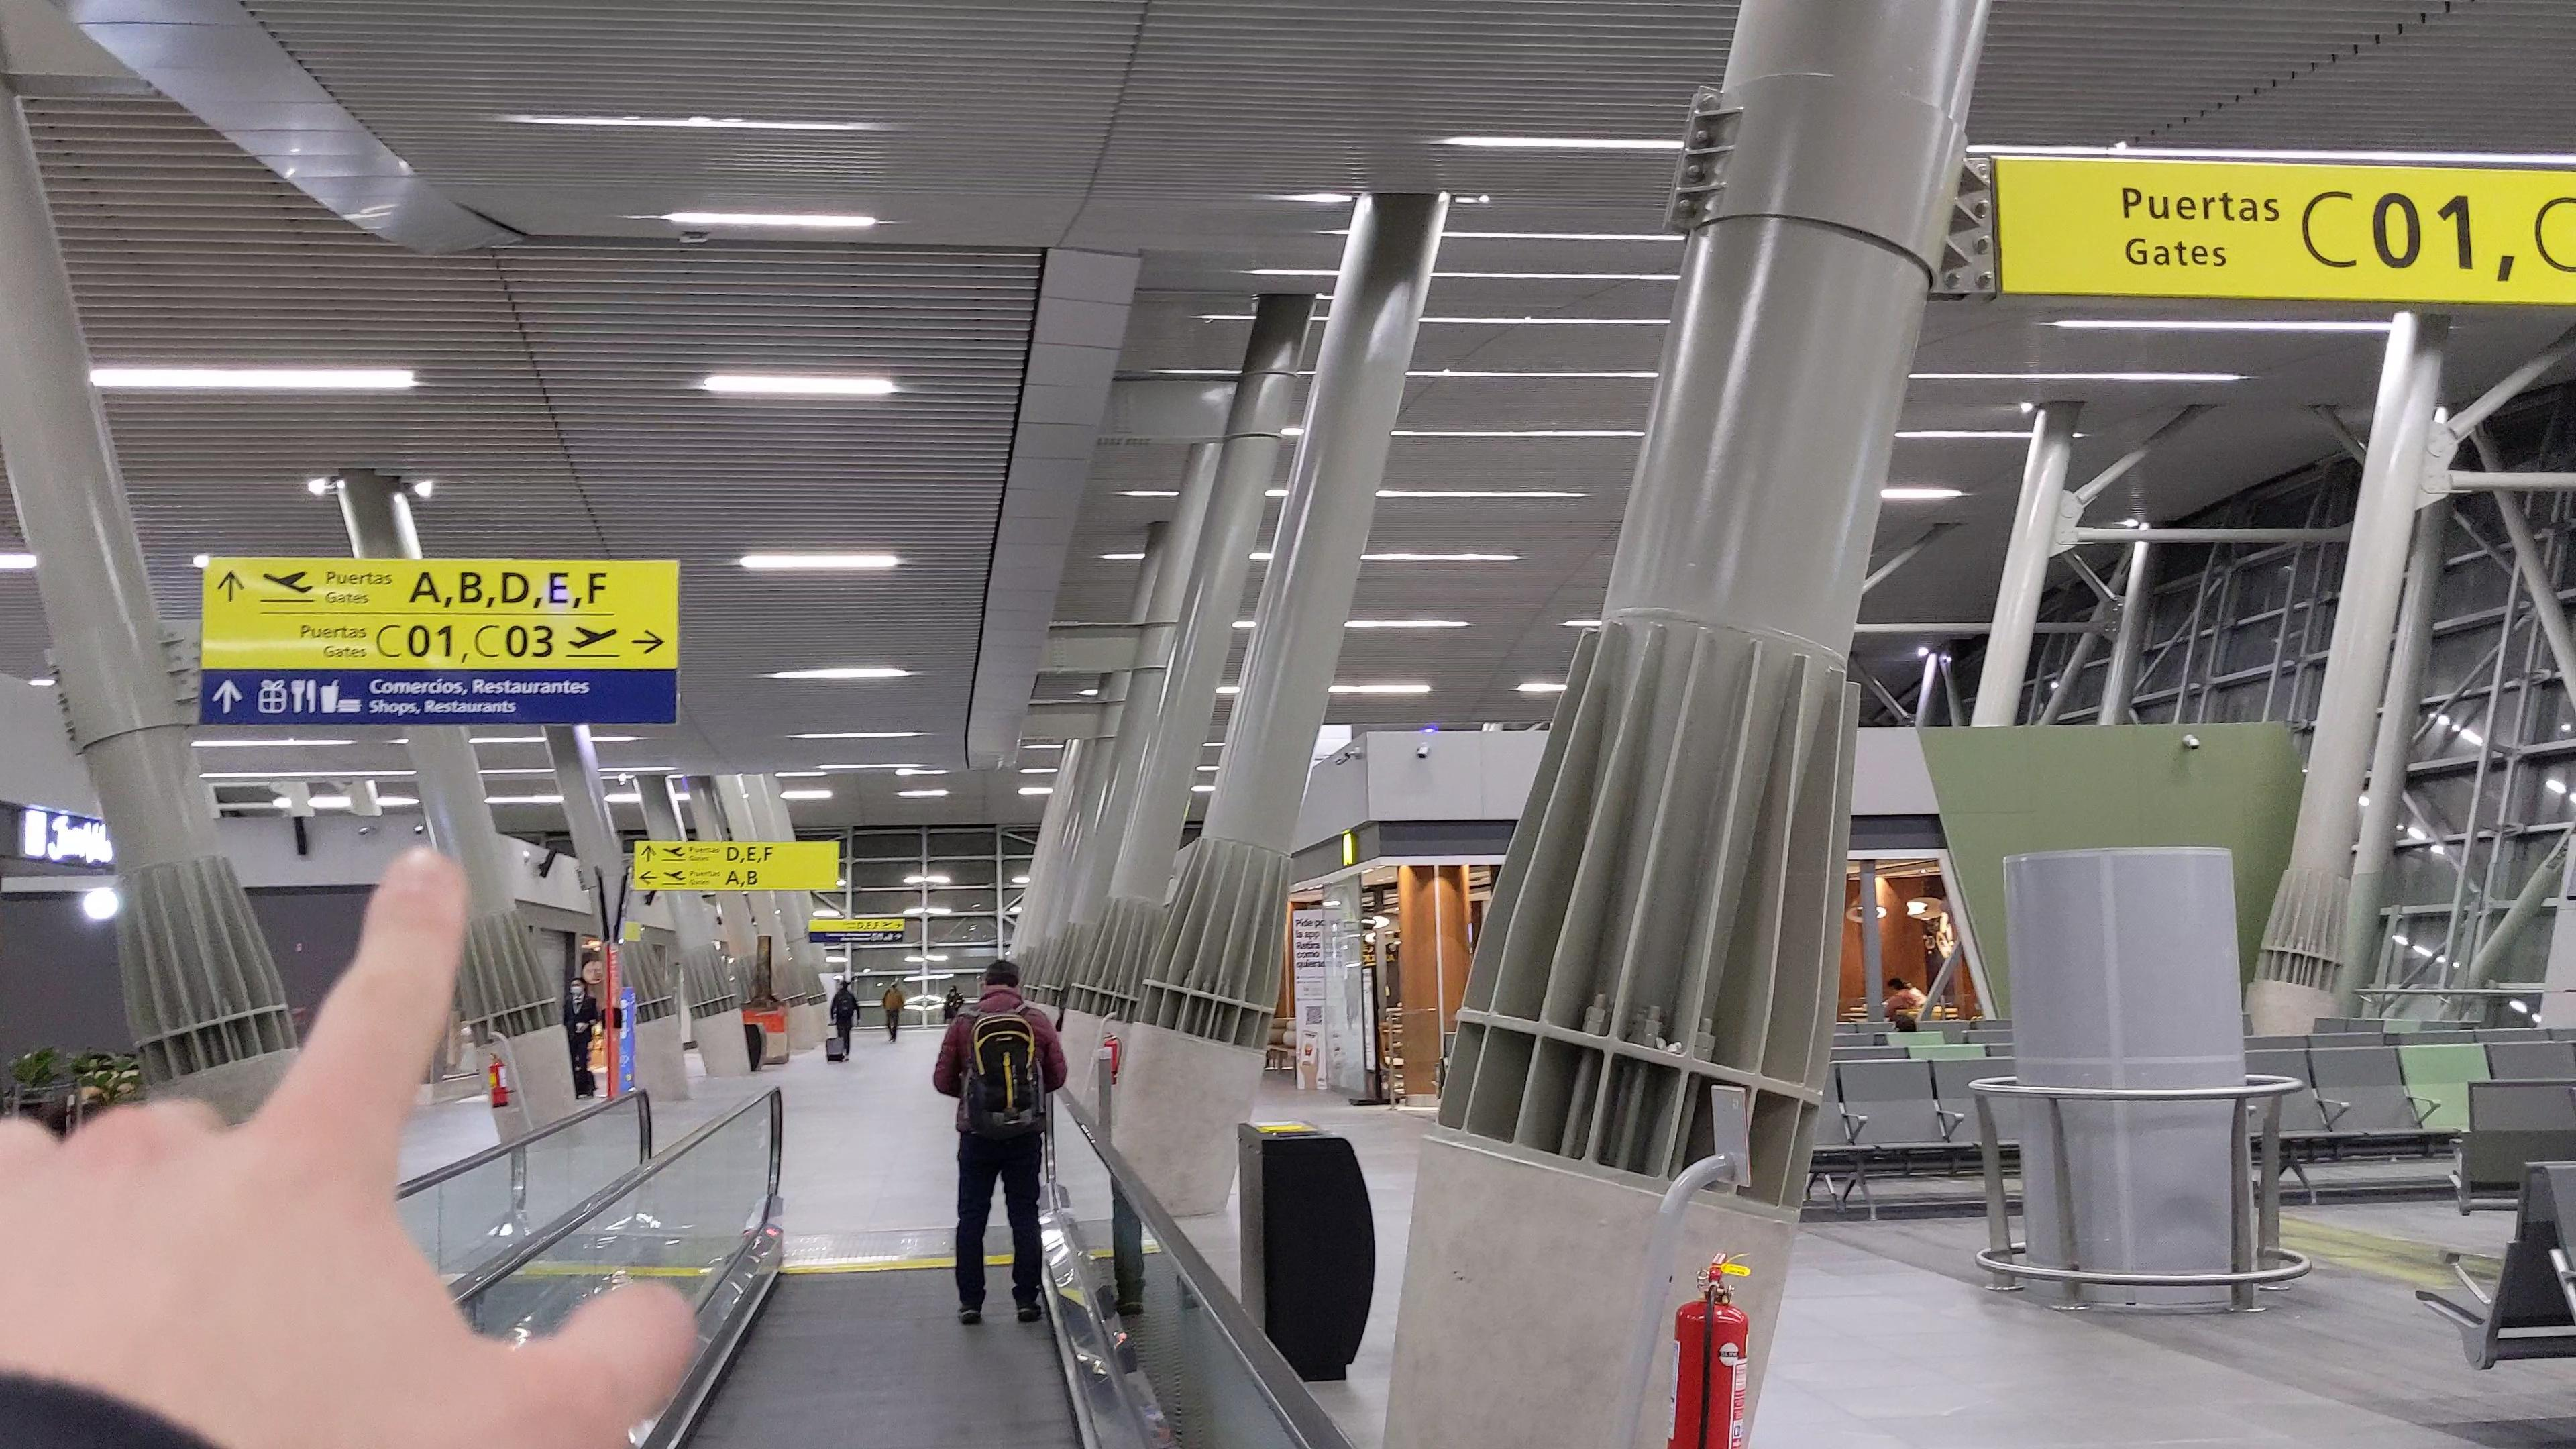airplane symbol: (260, 568, 315, 598), (566, 625, 619, 649), (662, 846, 686, 858), (663, 869, 686, 881)
fire-extinguisher: (1665, 1251, 1752, 1449), (485, 1051, 513, 1109), (1102, 1031, 1122, 1088)
restaurants: (290, 676, 318, 715)
thin left arrow: (639, 870, 660, 885)
thin right arrow: (630, 628, 665, 656)
thin up arrow: (212, 678, 244, 715), (218, 570, 248, 603), (640, 844, 656, 863)
